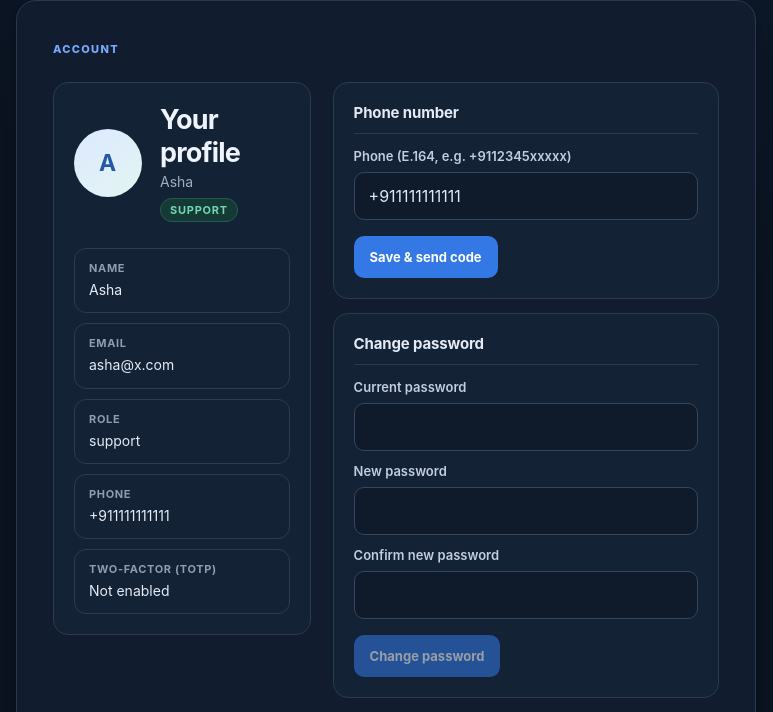
Test: ProfilePanel › normalizes a ten-digit Indian number to E.164 before sending it to Cognito
Expected: the text "Not enabled" is shown, [89,582,170,599]
Replace the text in the field labelled "Phone (E.164, e.g. +9112345xxxxx)" with "7030821421". click: (526, 196)
box: [354,172,698,220]
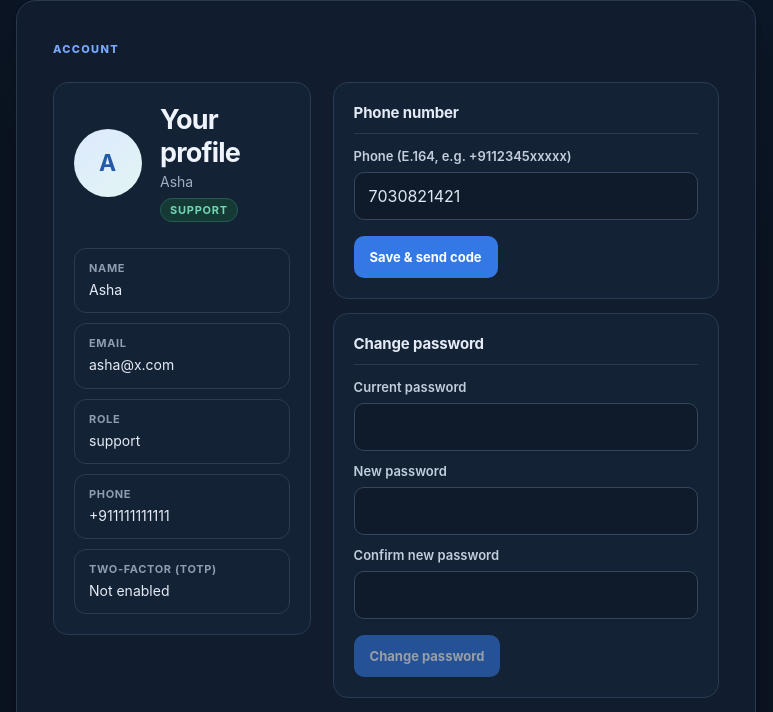
Click the button "Save & send code". click: (426, 257)
box: [354,236,498,278]
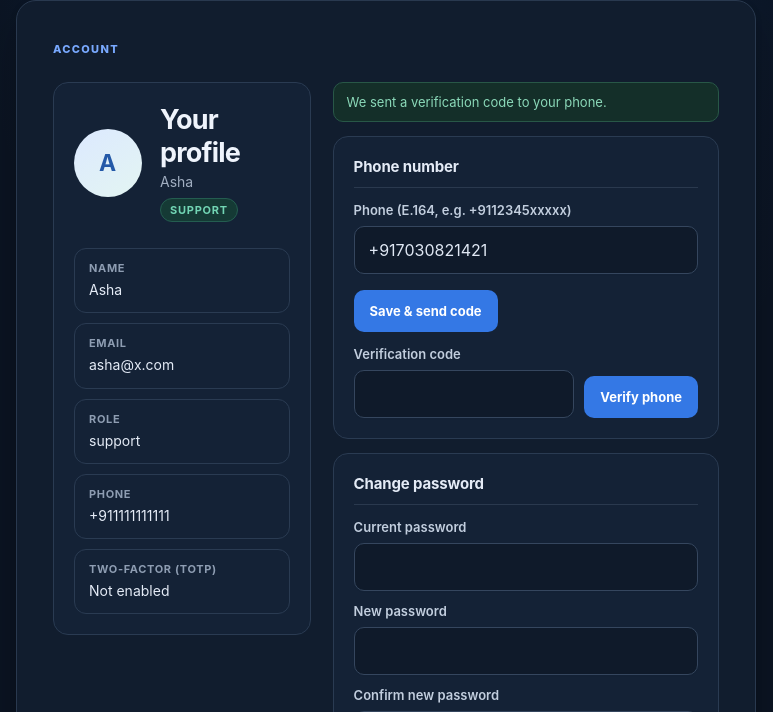
Result: the field labelled "Phone (E.164, e.g. +9112345xxxxx)" holds "+917030821421" at [354,226,698,274]
